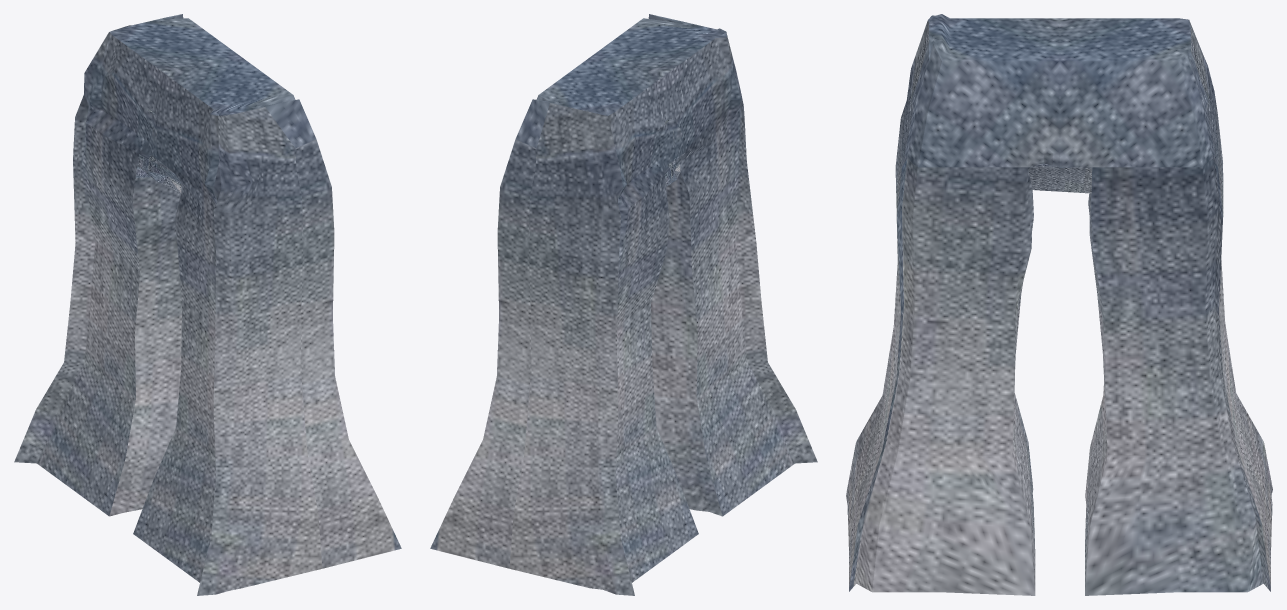
The model's file is jeans.glb.
3 renders of one model, left to right at view 1: azimuth 30°, elevation 25°; view 2: azimuth 150°, elevation 25°; view 3: azimuth 270°, elevation 25°, orthographic. The views are drawn at different scales.
Visible parts, largest first — view 1: Cube.024; view 2: Cube.024; view 3: Cube.024.
Boxes of the visible parts, x1,y1,x2,y2 form: Cube.024: (14,14,401,595); Cube.024: (430,14,817,595); Cube.024: (846,14,1272,595).
Bounding box in the file's own units: 2 × 4.04 × 3.15.
1 material, 1 textured.
